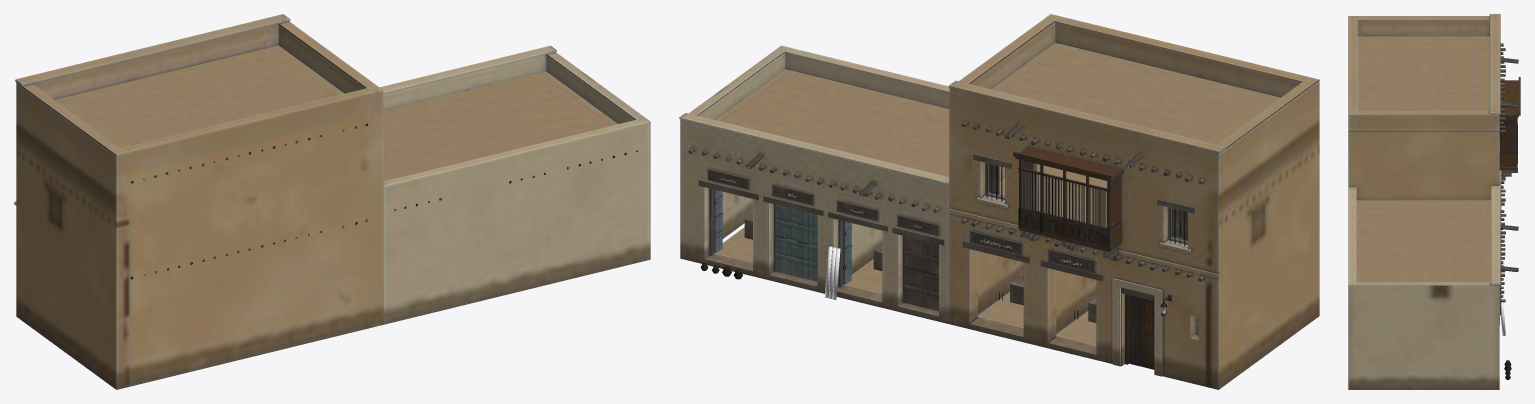
File: souq_bldC_m.glb
3 views of the same model, side by side, from view 1: azimuth 30°, elevation 25°; view 2: azimuth 150°, elevation 25°; view 3: azimuth 270°, elevation 25° (orthographic). The views are drawn at different scales.
Parts seen in each view (by area): view 1: GX_bldC_LOD0; view 2: GX_bldC_LOD0; view 3: GX_bldC_LOD0.
Boxes of the visible parts, <box> form: GX_bldC_LOD0: <box>14,14,650,389</box>; GX_bldC_LOD0: <box>679,14,1319,389</box>; GX_bldC_LOD0: <box>1348,14,1520,389</box>.
Size of what is drawn, in the model's own units: 20.08 by 8.5 by 7.39.
3 materials, 1 textured.
